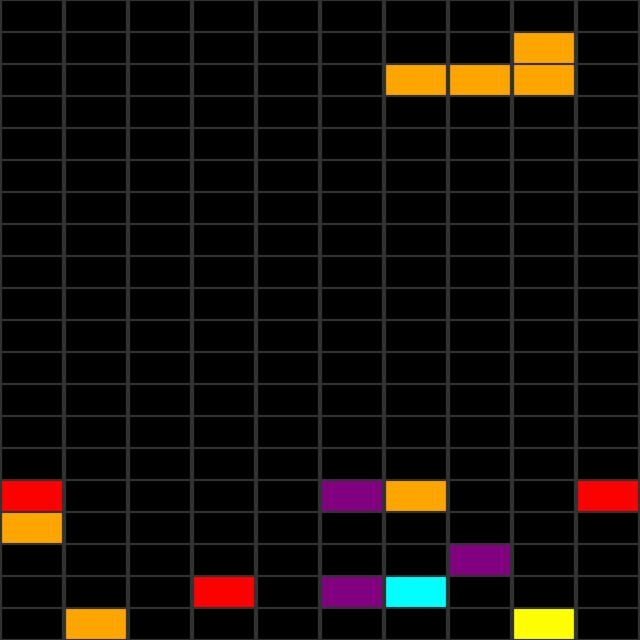Tetrimino_S: (382, 34, 574, 95)
